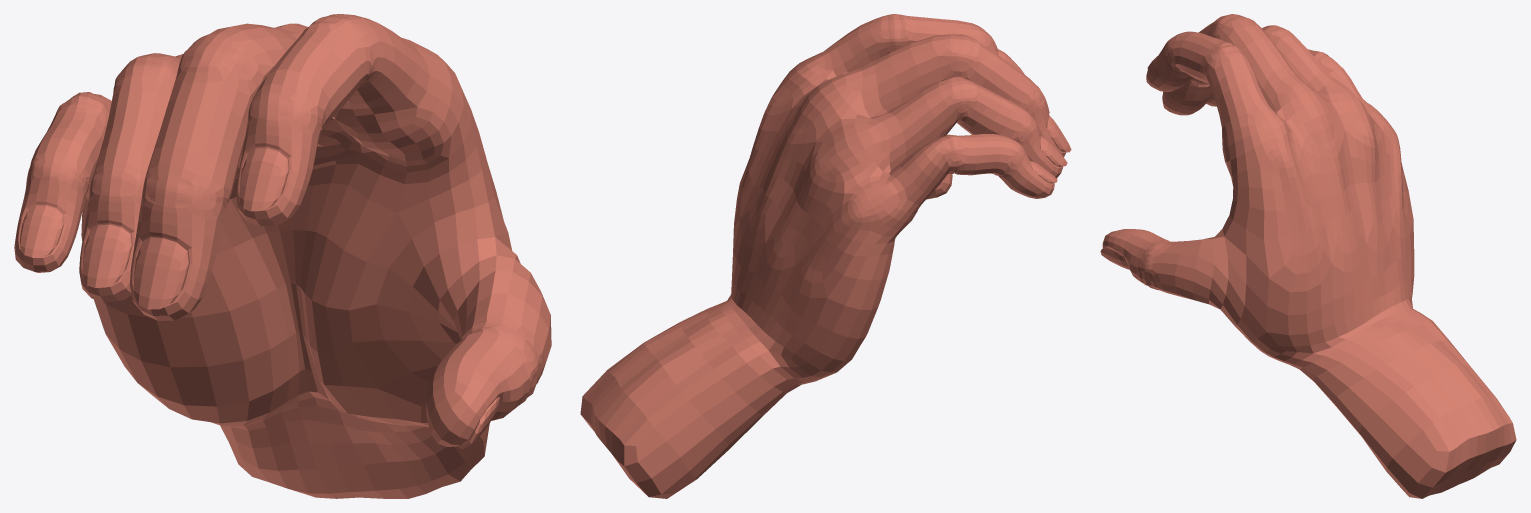
Rendered from seh.glb.
3 renders of one model, left to right at view 1: azimuth 30°, elevation 25°; view 2: azimuth 150°, elevation 25°; view 3: azimuth 270°, elevation 25°, orthographic. The views are drawn at different scales.
Visible parts, largest first — view 1: ZBrushPolyMesh3D; view 2: ZBrushPolyMesh3D; view 3: ZBrushPolyMesh3D.
Part boxes in pixels (x1=…): ZBrushPolyMesh3D: x1=14, y1=14, x2=551, y2=498; ZBrushPolyMesh3D: x1=580, y1=14, x2=1071, y2=498; ZBrushPolyMesh3D: x1=1100, y1=14, x2=1516, y2=498.
Bounding box in the file's own units: 3.3 × 3.46 × 3.4.
